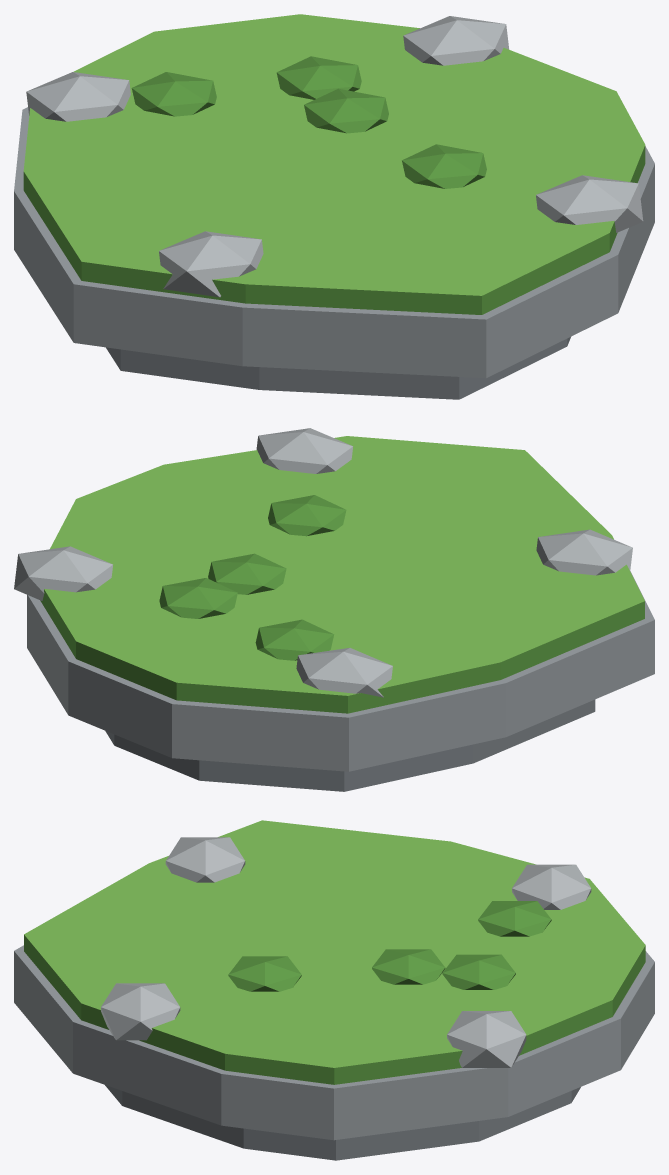
Rendered from ledge.glb.
3 renders of one model, top to bottom at view 1: azimuth 30°, elevation 25°; view 2: azimuth 150°, elevation 25°; view 3: azimuth 270°, elevation 25°, orthographic. The views are drawn at different scales.
Parts seen in each view (by area): view 1: ledge; view 2: ledge; view 3: ledge.
Boxes of the visible parts, bbox=[...] form: ledge: bbox=[14, 14, 654, 399]; ledge: bbox=[14, 428, 654, 791]; ledge: bbox=[14, 820, 654, 1160].
Size of the model in its own units: 5.82 by 1.42 by 6.18.
